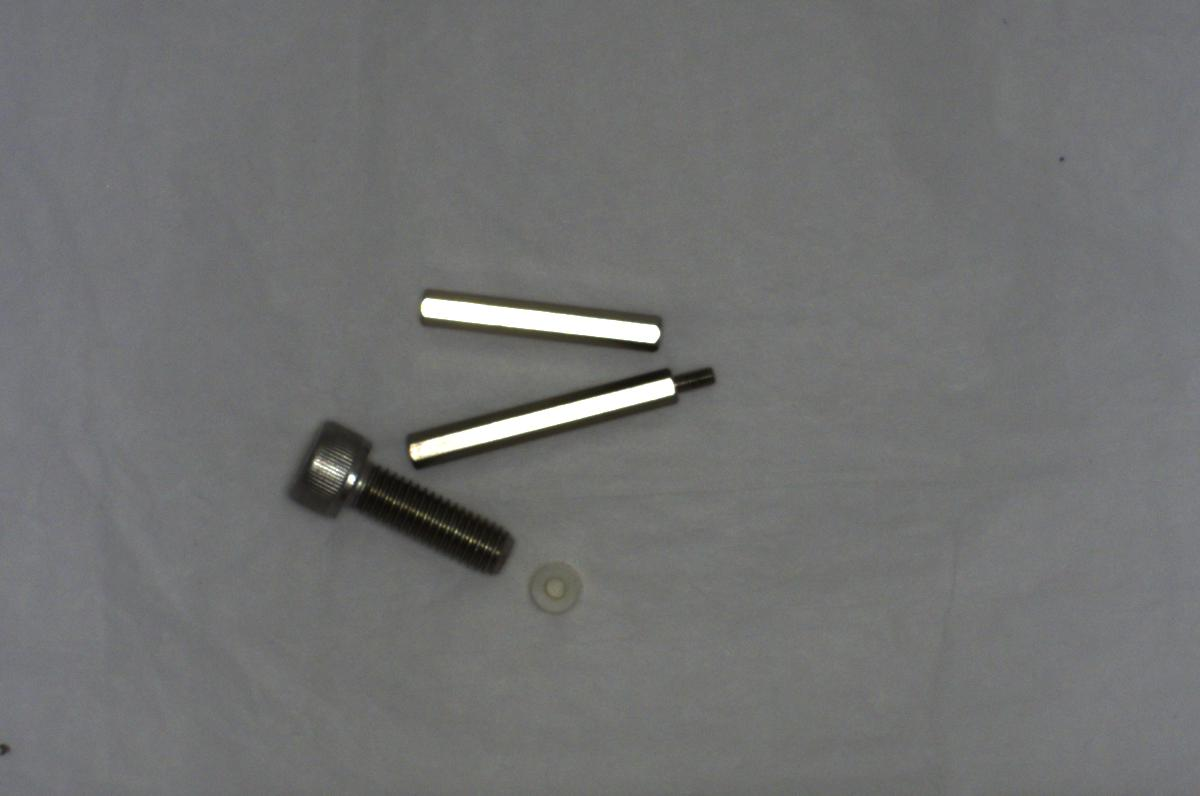Double hexagonal column: (406, 281, 671, 358)
Hexagon screw: (282, 420, 519, 568)
Hexagonal steel column: (400, 361, 722, 466)
Plastic cushion pillar: (513, 554, 602, 626)
